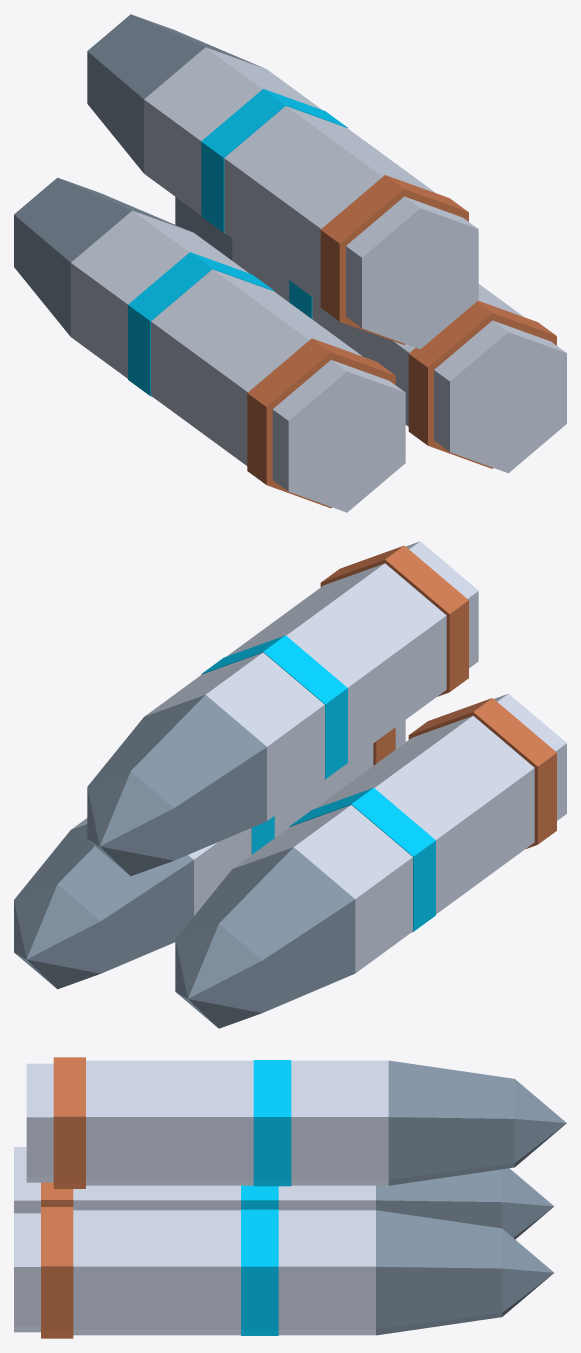
Rendered from ce_ammo_artillery_emp_b.obj.
3 renders of one model, top to bottom at view 1: azimuth 30°, elevation 25°; view 2: azimuth 150°, elevation 25°; view 3: azimuth 270°, elevation 25°, orthographic. The views are drawn at different scales.
Parts seen in each view (by area): view 1: ce_ammo_artillery_emp_b_16, ce_ammo_artillery_emp_b_2, ce_ammo_artillery_emp_b_0, ce_ammo_artillery_emp_b_7, ce_ammo_artillery_emp_b_14, ce_ammo_artillery_emp_b_18, ce_ammo_artillery_emp_b_4, ce_ammo_artillery_emp_b_5, ce_ammo_artillery_emp_b_19, ce_ammo_artillery_emp_b_1, ce_ammo_artillery_emp_b_15, ce_ammo_artillery_emp_b_8 (+5 smaller); view 2: ce_ammo_artillery_emp_b_16, ce_ammo_artillery_emp_b_2, ce_ammo_artillery_emp_b_5, ce_ammo_artillery_emp_b_19, ce_ammo_artillery_emp_b_12, ce_ammo_artillery_emp_b_18, ce_ammo_artillery_emp_b_4, ce_ammo_artillery_emp_b_6, ce_ammo_artillery_emp_b_20, ce_ammo_artillery_emp_b_13, ce_ammo_artillery_emp_b_1, ce_ammo_artillery_emp_b_15 (+6 smaller); view 3: ce_ammo_artillery_emp_b_9, ce_ammo_artillery_emp_b_16, ce_ammo_artillery_emp_b_19, ce_ammo_artillery_emp_b_12, ce_ammo_artillery_emp_b_18, ce_ammo_artillery_emp_b_11, ce_ammo_artillery_emp_b_5, ce_ammo_artillery_emp_b_17, ce_ammo_artillery_emp_b_10, ce_ammo_artillery_emp_b_8, ce_ammo_artillery_emp_b_15, ce_ammo_artillery_emp_b_2 (+9 smaller).
Boxes of the visible parts, x1,y1,x2,y2 form: ce_ammo_artillery_emp_b_16: [224, 106, 435, 302]; ce_ammo_artillery_emp_b_2: [151, 269, 362, 465]; ce_ammo_artillery_emp_b_0: [272, 360, 405, 512]; ce_ammo_artillery_emp_b_7: [434, 320, 566, 473]; ce_ammo_artillery_emp_b_14: [346, 196, 478, 349]; ce_ammo_artillery_emp_b_18: [144, 47, 321, 215]; ce_ammo_artillery_emp_b_4: [70, 210, 248, 378]; ce_ammo_artillery_emp_b_5: [14, 177, 190, 336]; ce_ammo_artillery_emp_b_19: [87, 14, 264, 172]; ce_ammo_artillery_emp_b_1: [247, 338, 395, 508]; ce_ammo_artillery_emp_b_15: [320, 175, 468, 344]; ce_ammo_artillery_emp_b_8: [408, 300, 556, 468]; ce_ammo_artillery_emp_b_16: [227, 563, 446, 761]; ce_ammo_artillery_emp_b_2: [315, 716, 534, 914]; ce_ammo_artillery_emp_b_5: [176, 847, 355, 1012]; ce_ammo_artillery_emp_b_19: [88, 695, 266, 860]; ce_ammo_artillery_emp_b_12: [14, 824, 193, 973]; ce_ammo_artillery_emp_b_18: [145, 652, 324, 820]; ce_ammo_artillery_emp_b_4: [233, 805, 412, 973]; ce_ammo_artillery_emp_b_6: [175, 923, 262, 1028]; ce_ammo_artillery_emp_b_20: [87, 771, 174, 875]; ce_ammo_artillery_emp_b_13: [14, 884, 100, 989]; ce_ammo_artillery_emp_b_1: [408, 698, 556, 848]; ce_ammo_artillery_emp_b_15: [320, 545, 468, 696]; ce_ammo_artillery_emp_b_9: [73, 1210, 240, 1335]; ce_ammo_artillery_emp_b_16: [86, 1060, 253, 1185]; ce_ammo_artillery_emp_b_19: [388, 1060, 514, 1185]; ce_ammo_artillery_emp_b_12: [376, 1210, 502, 1335]; ce_ammo_artillery_emp_b_18: [291, 1060, 388, 1185]; ce_ammo_artillery_emp_b_11: [278, 1210, 375, 1335]; ce_ammo_artillery_emp_b_5: [376, 1169, 502, 1228]; ce_ammo_artillery_emp_b_17: [253, 1060, 291, 1186]; ce_ammo_artillery_emp_b_10: [241, 1209, 278, 1335]; ce_ammo_artillery_emp_b_8: [41, 1207, 73, 1338]; ce_ammo_artillery_emp_b_15: [53, 1057, 85, 1188]; ce_ammo_artillery_emp_b_2: [73, 1185, 240, 1210].
Size of the model in its own units: 0.45 by 0.4355 by 0.88.
